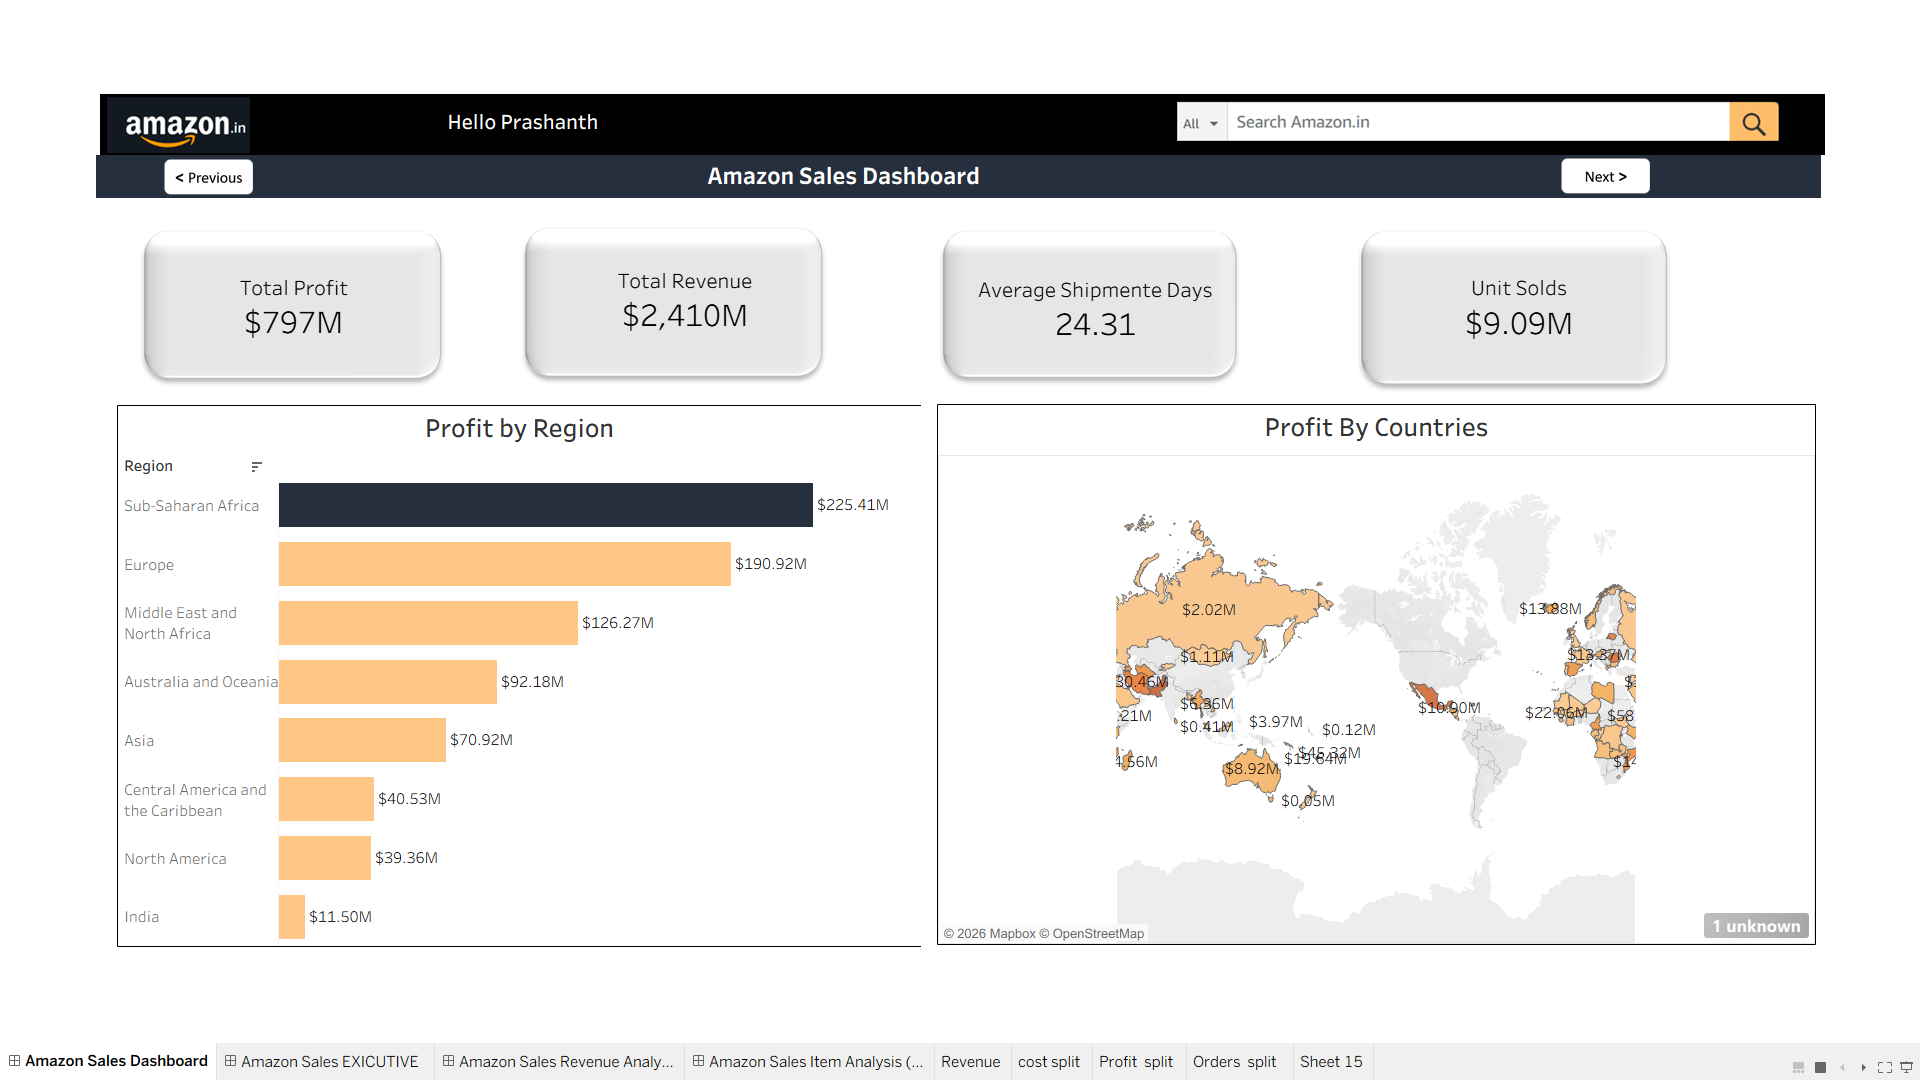

This screenshot's page, from the dashboard's own definition file:
{"tool":"tableau","page":{"name":"Amazon Sales Dashboard","canvas":[1000,1000],"units":"permille","ordinal":0},"visuals":[{"type":"blank","box":[0,3.5,1003,70.5]},{"type":"text","box":[199.9,5.9,133.7,58.8]},{"type":"image","param":"Image/amazon.png","box":[4.2,7,125.2,64.6]},{"type":"dashboard-object","box":[832,77.6,86.1,45.8]},{"type":"dashboard-object","box":[19.9,78.7,86.1,45.8]},{"type":"text","box":[351,79.9,201.7,35.2]},{"type":"image","param":"Image/background of kpi.png","box":[243.2,155.1,233,189.2]},{"type":"image","param":"Image/background of kpi.png","box":[21.7,158.6,180.6,189.2]},{"type":"image","param":"Image/background of kpi.png","box":[485.9,158.6,207.1,186.8]},{"type":"image","param":"Image/background of kpi.png","box":[729.1,158.6,255.3,195.1]},{"type":"worksheet","title":"Total Revenue","mark":"Automatic","box":[245,163.3,192.1,164.5]},{"type":"worksheet","title":"Unit solds","mark":"Automatic","box":[729.7,165.7,191.5,176.3]},{"type":"worksheet","title":"Average shipment days","mark":"Automatic","box":[479.8,166.9,198.7,177.4]},{"type":"worksheet","title":"Total Profit","mark":"Automatic","box":[26.5,173.9,172.8,157.5]},{"type":"worksheet","title":"Profit By Countries","mark":"Automatic","box":[486.4,364.3,511.1,628.7]},{"type":"worksheet","title":"Profit by Region","mark":"Automatic","rows":["Region"],"cols":["Calculation_1719936005419008"],"box":[9.6,365.4,467.8,629.9]}]}

Visuals, with their boxes on the dashboard's canvas, which has no fixed pixel size, in thousandths of its width and height (x1, y1, x2, y2). These are canvas units, not pixel positions in the 1920x1080 screenshot, which may show the page scaled, cropped or inside an application window:
blank: <region>0, 4, 1003, 74</region>
text: <region>200, 6, 334, 65</region>
image: <region>4, 7, 129, 72</region>
dashboard-object: <region>832, 78, 918, 123</region>
dashboard-object: <region>20, 79, 106, 124</region>
text: <region>351, 80, 553, 115</region>
image: <region>243, 155, 476, 344</region>
image: <region>22, 159, 202, 348</region>
image: <region>486, 159, 693, 345</region>
image: <region>729, 159, 984, 354</region>
"Total Revenue" worksheet: <region>245, 163, 437, 328</region>
"Unit solds" worksheet: <region>730, 166, 921, 342</region>
"Average shipment days" worksheet: <region>480, 167, 678, 344</region>
"Total Profit" worksheet: <region>26, 174, 199, 331</region>
"Profit By Countries" worksheet: <region>486, 364, 998, 993</region>
"Profit by Region" worksheet: <region>10, 365, 477, 995</region>
